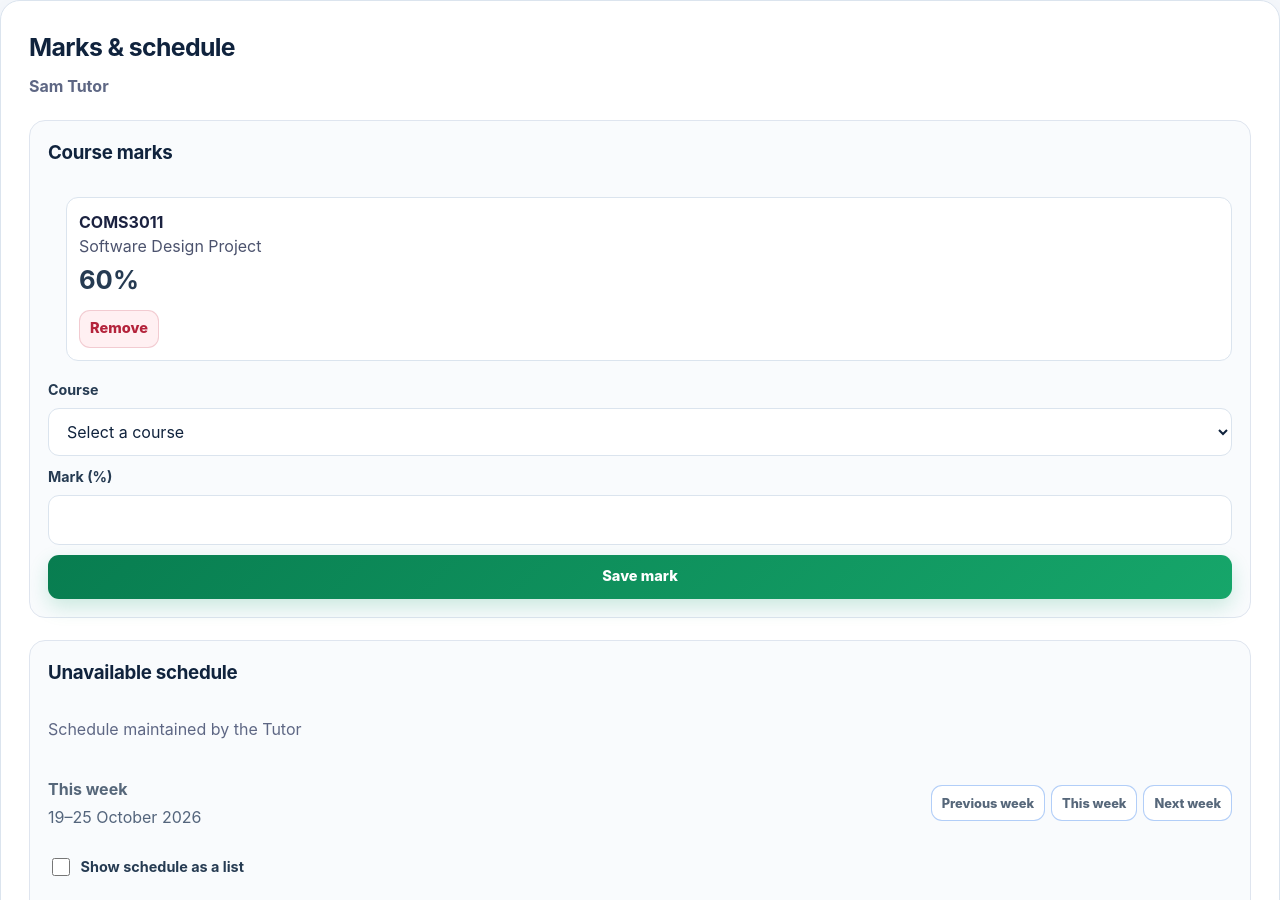
Test case: TutorAllocationDetails › saves a valid mark and replaces the same course without a stale row
Check: the text "60%" is shown, box top-left (79, 264), bottom-right (139, 295)
Select "COMS3011 - Software Design Project" in the dropdown labelled "Course": (640,432) top-left (48, 408), bottom-right (1232, 456)
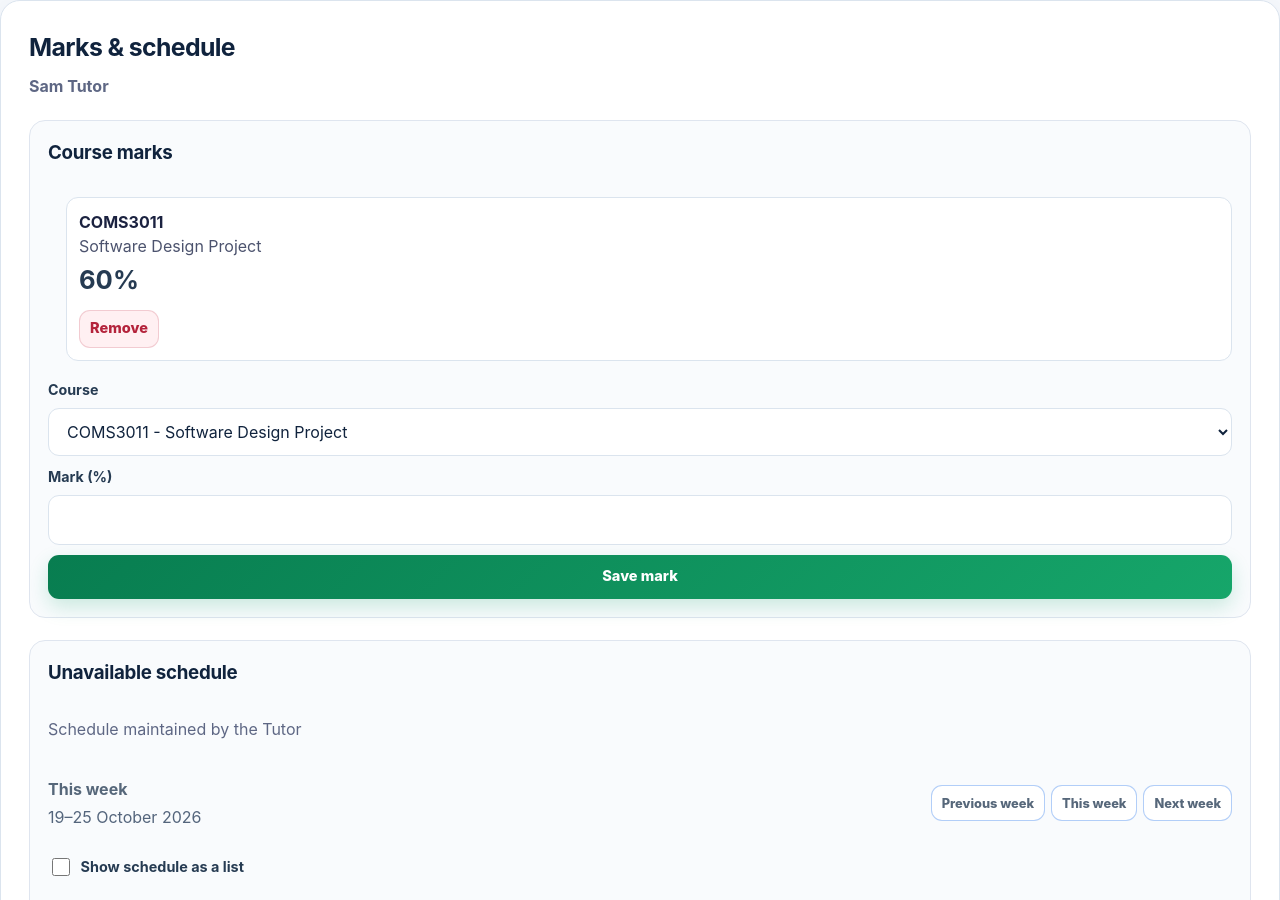
In the number field labelled "Mark (%)": (640,520) top-left (48, 495), bottom-right (1232, 545), type "75"
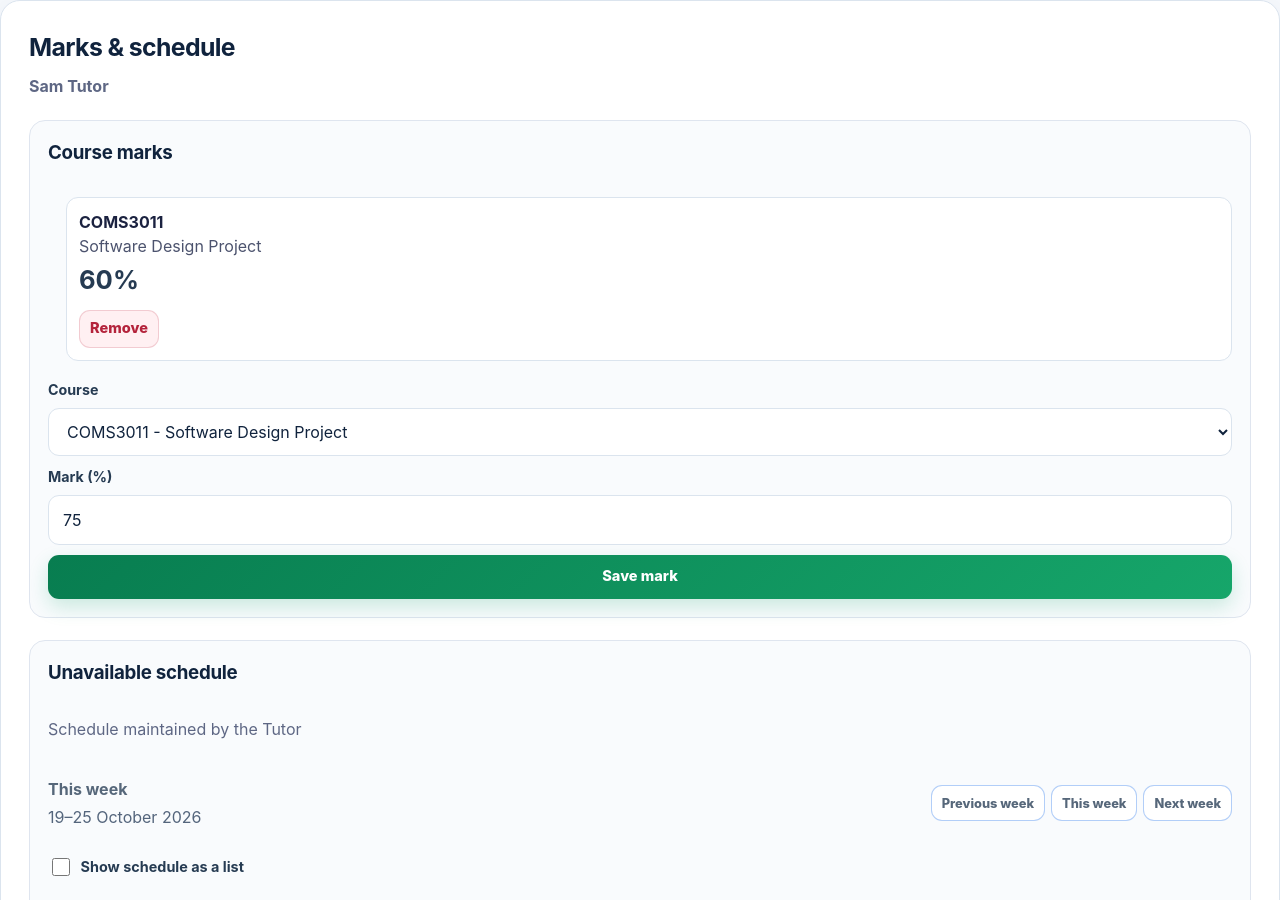
Click the button "Save mark": (640,577) top-left (48, 555), bottom-right (1232, 599)
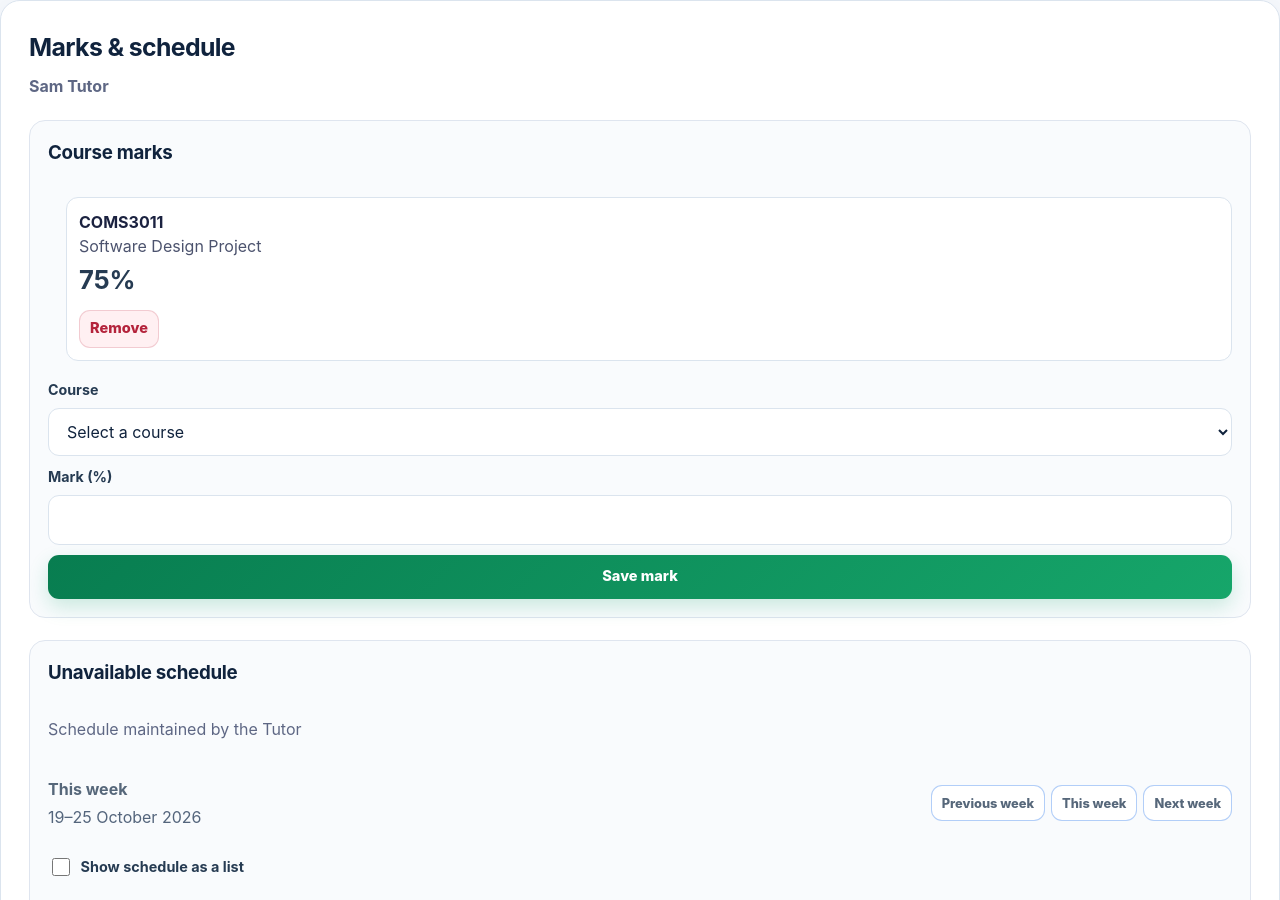
Check: the text "75%" is shown, box top-left (79, 264), bottom-right (136, 295)
Check: the text "60%" is gone
